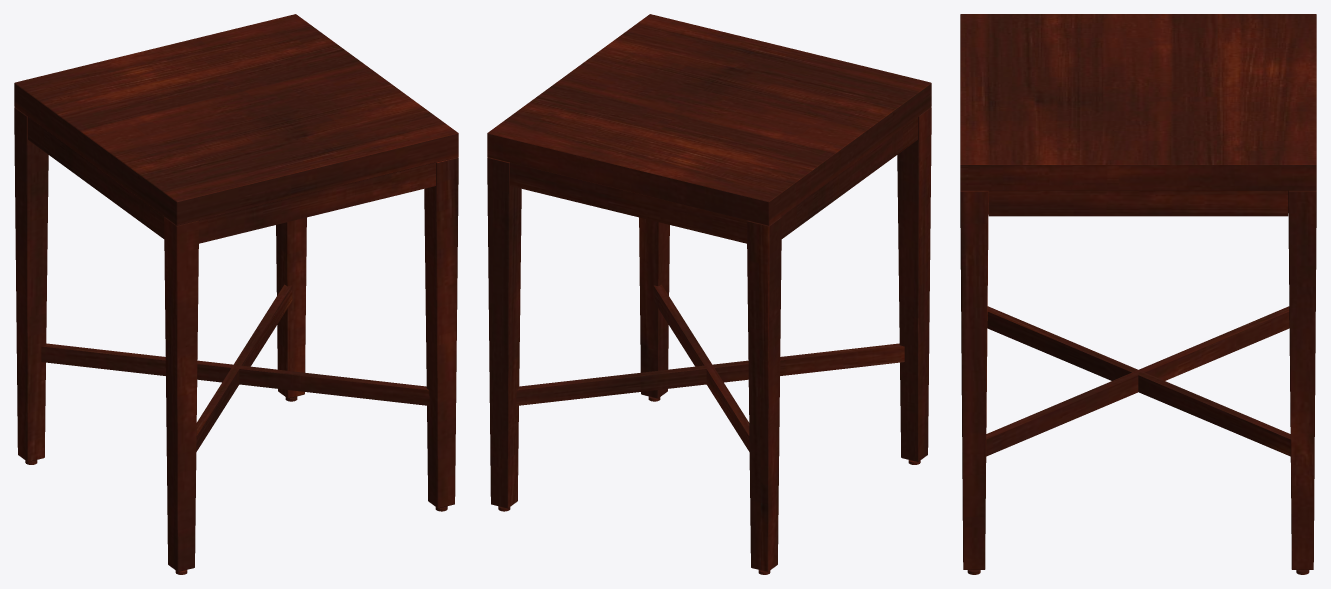
Rendered from sh_scopia_bar_table.glb.
3 views of the same model, side by side, from view 1: azimuth 30°, elevation 25°; view 2: azimuth 150°, elevation 25°; view 3: azimuth 270°, elevation 25° (orthographic). The views are drawn at different scales.
Bounding box in the file's own units: 0.8 × 1.02 × 0.8.
Materials: 2 (2 with a texture image).
